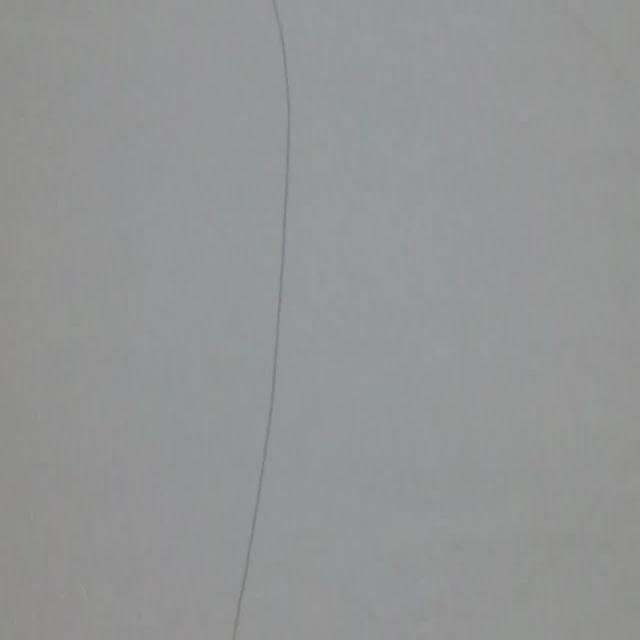Crack: (221, 0, 306, 636)
